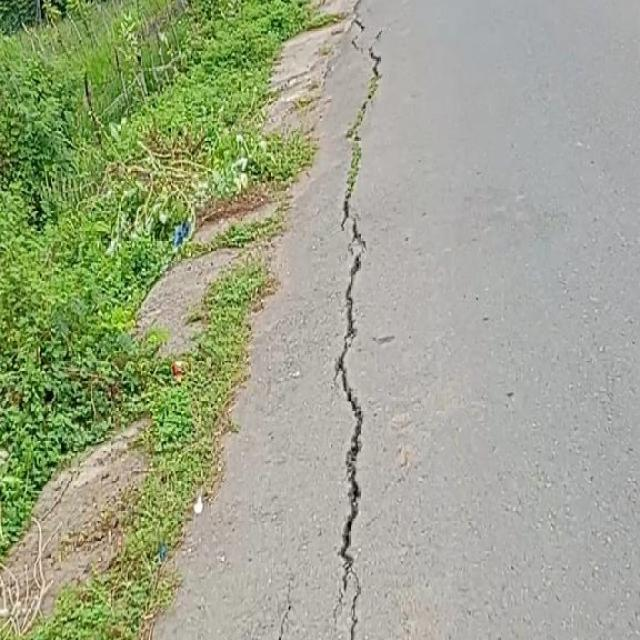Memanjang: (317, 42, 395, 640)
